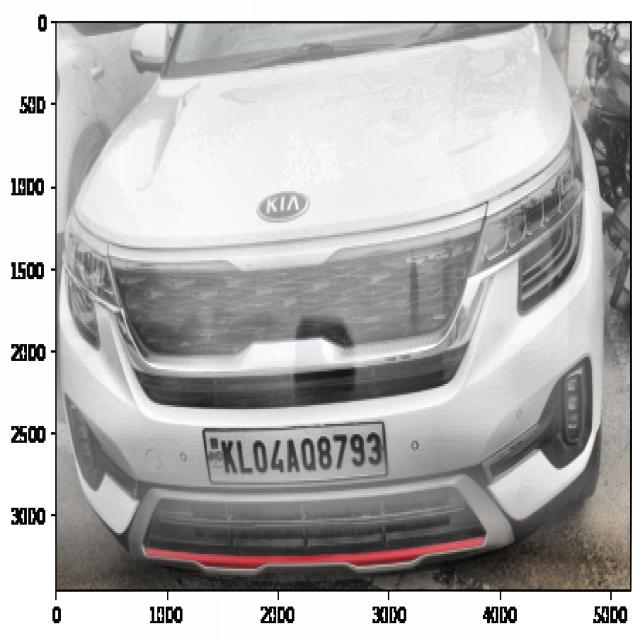license_plate: (210, 424, 388, 481)
